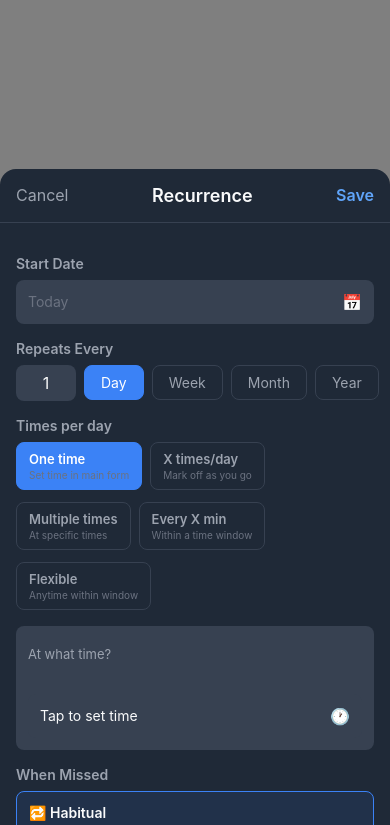
RecurrencePicker › intraday modes › shows specific times config when Multiple times selected
What coordinates should you click on to do the following:
click the text "Multiple times"
I would click on:
 (73, 519)
Its box is [29, 511, 118, 527].
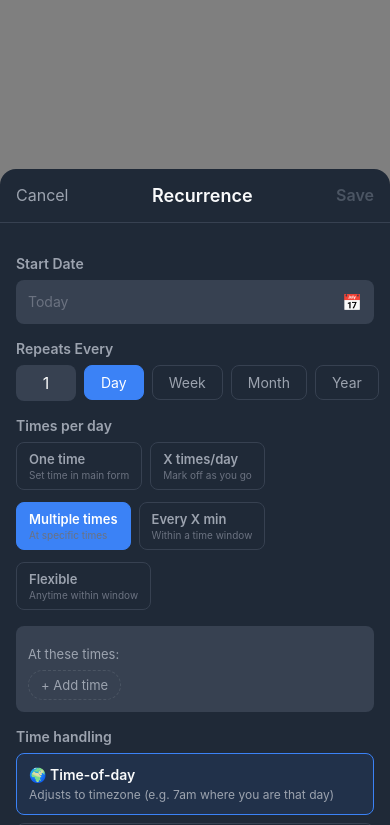
Expected: the text "At these times:" is shown, [28, 646, 119, 662]
Expected: the text "+ Add time" is shown, [41, 677, 108, 693]
